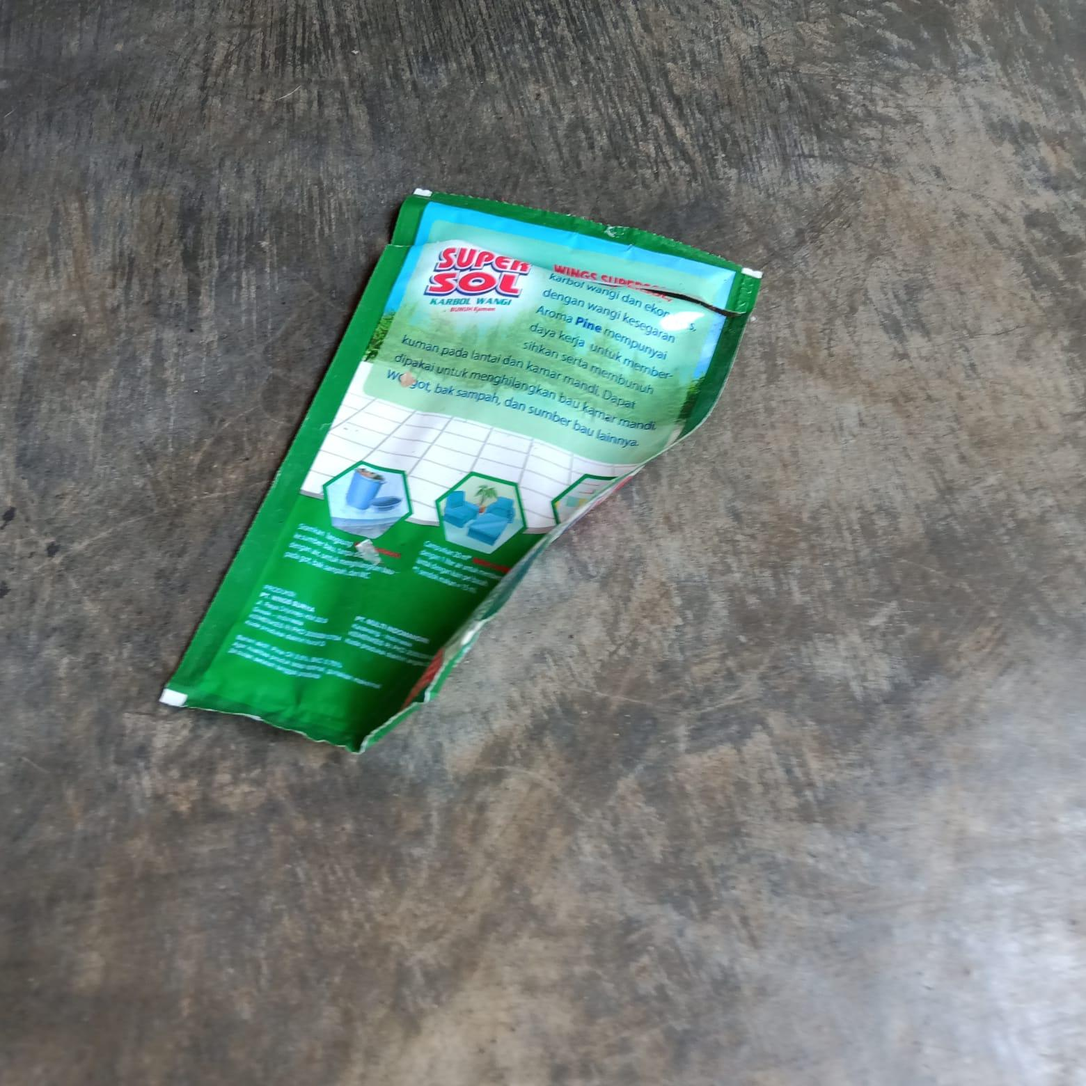Plastik: (154, 183, 764, 754)
